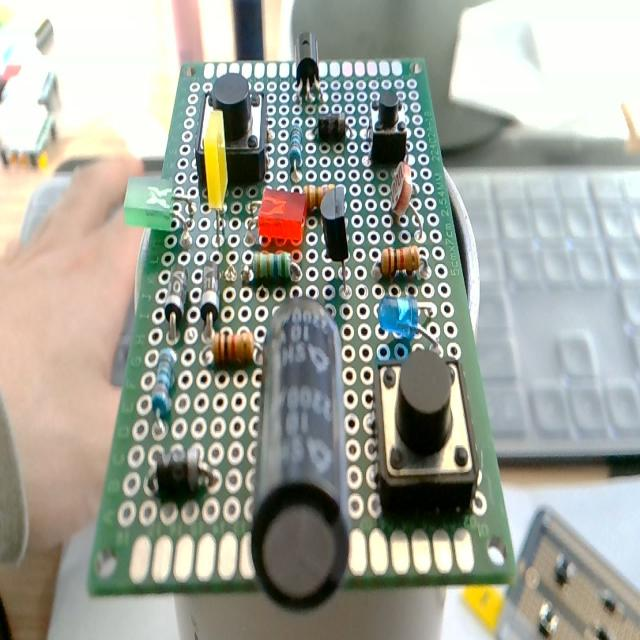Electrolytic capacitor: (255, 290, 353, 612)
cds: (384, 155, 426, 237)
diode: (194, 256, 224, 351), (162, 255, 190, 349), (314, 101, 352, 150)
led: (121, 173, 196, 248), (375, 287, 442, 353), (202, 108, 231, 252), (246, 187, 307, 249)
resistor: (202, 322, 262, 368), (373, 235, 432, 281), (244, 247, 304, 287), (283, 120, 305, 189)
switch: (362, 343, 484, 530), (364, 88, 411, 164)
transistor: (316, 184, 356, 308), (287, 30, 335, 104)
